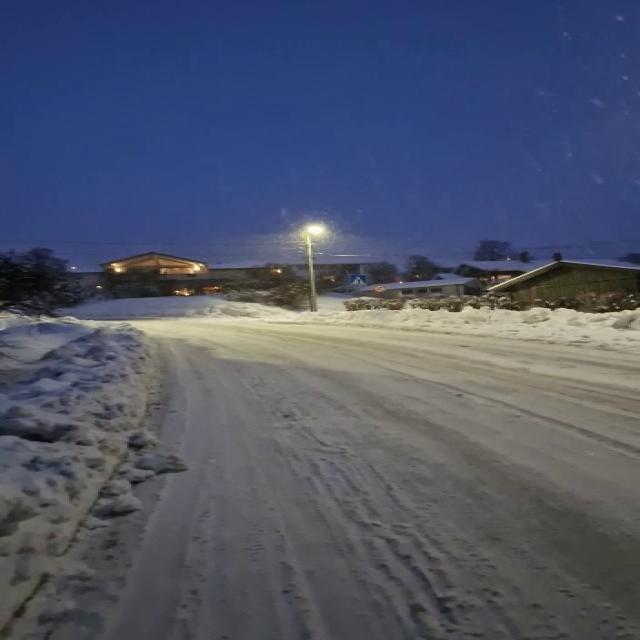path: (100, 320, 638, 640)
